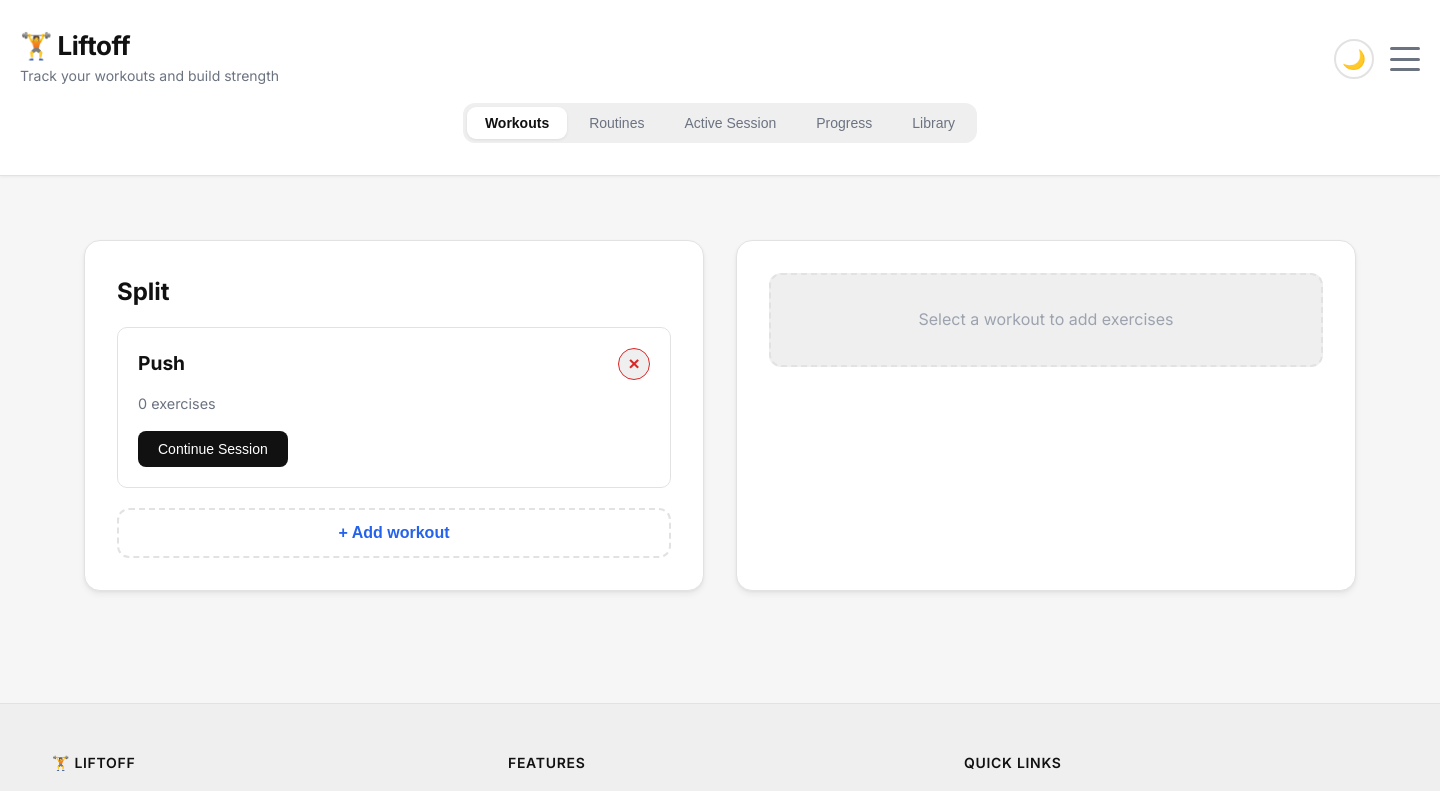
it: App — rest timer › a set that fails to save does not start the rest timer
The width and height of the screenshot is (1440, 791).
Click the button "Continue Session".
click(213, 449)  # box [138,431,288,467]
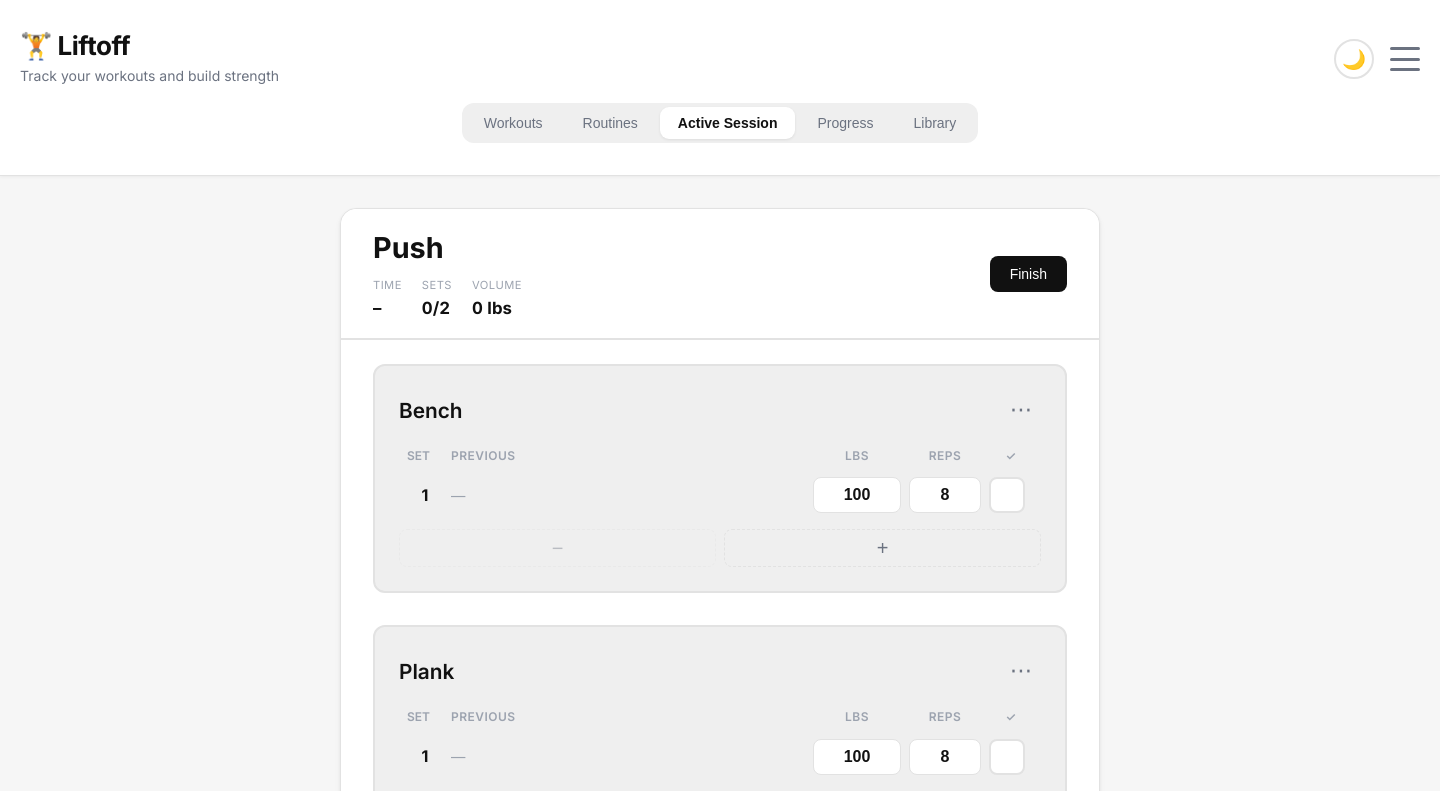
Click the button named "Set 1 done".
click(1007, 495)  # box [989,477,1025,513]
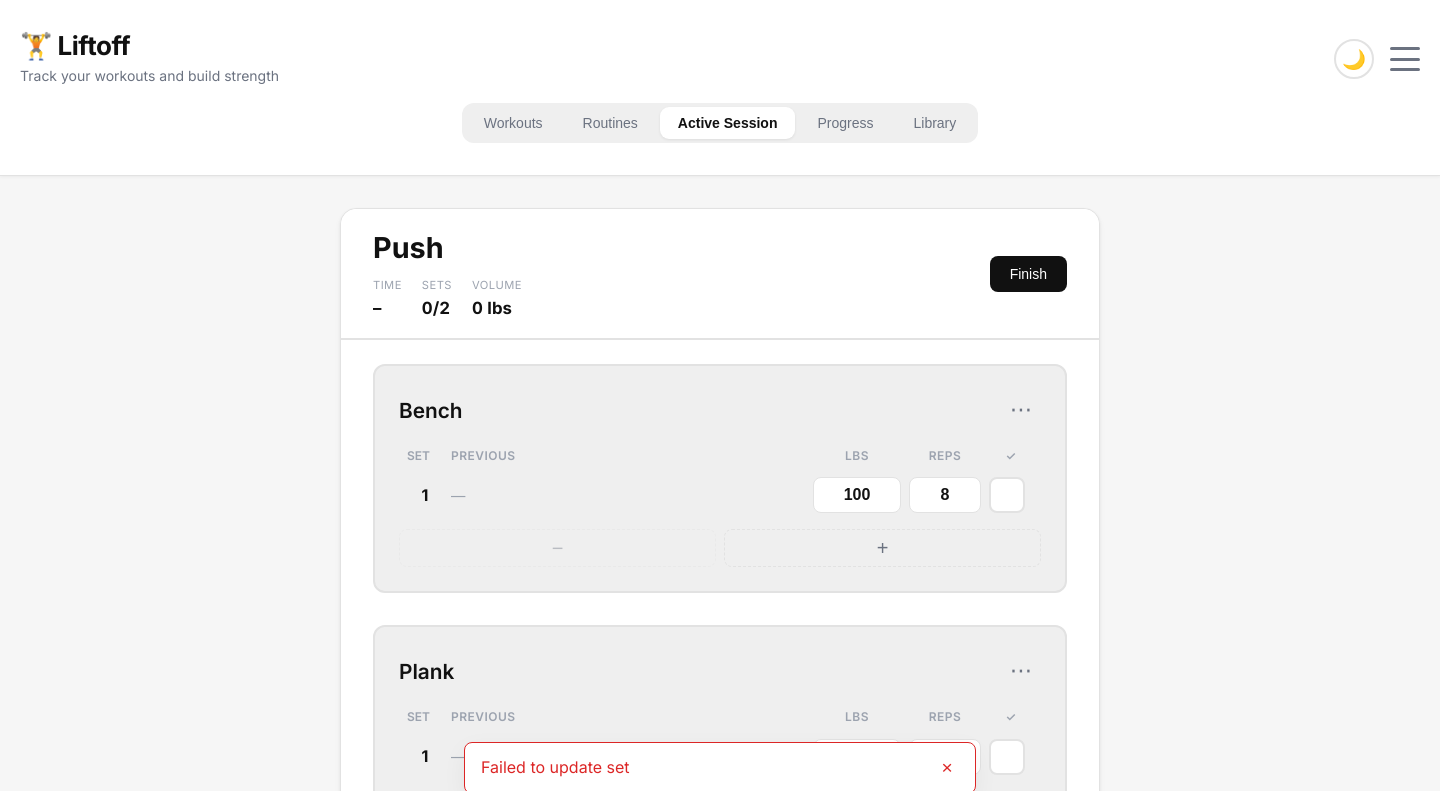
Result: the text "Failed to update set" is shown at [481,755,630,781]
